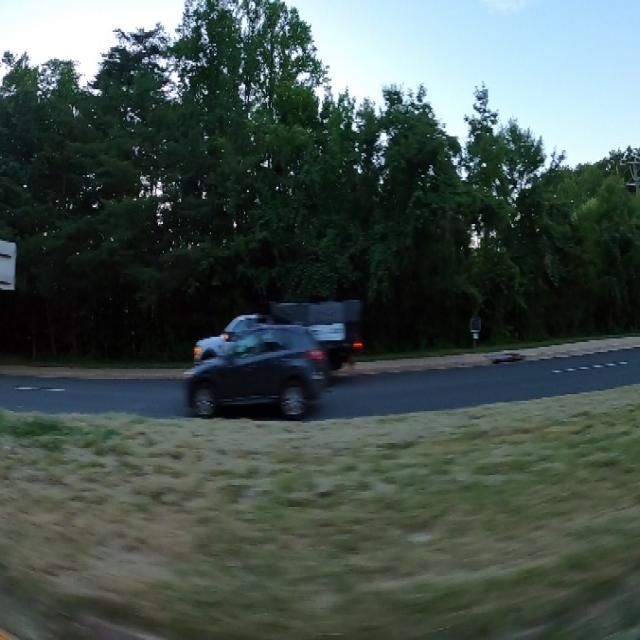cars: (186, 290, 372, 390), (180, 318, 341, 433)
